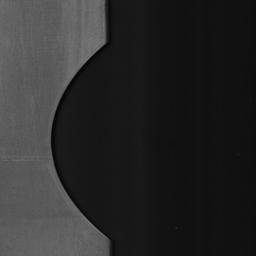Crescent gap: (51, 45, 109, 239)
